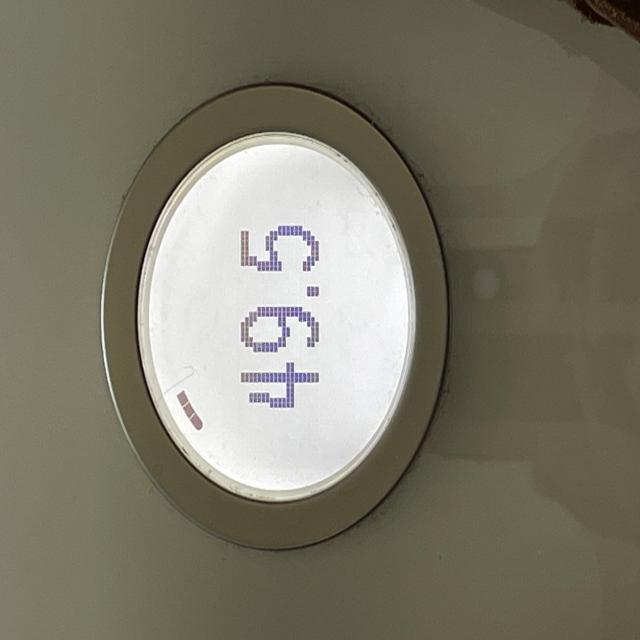ws: (99, 95, 450, 554)
